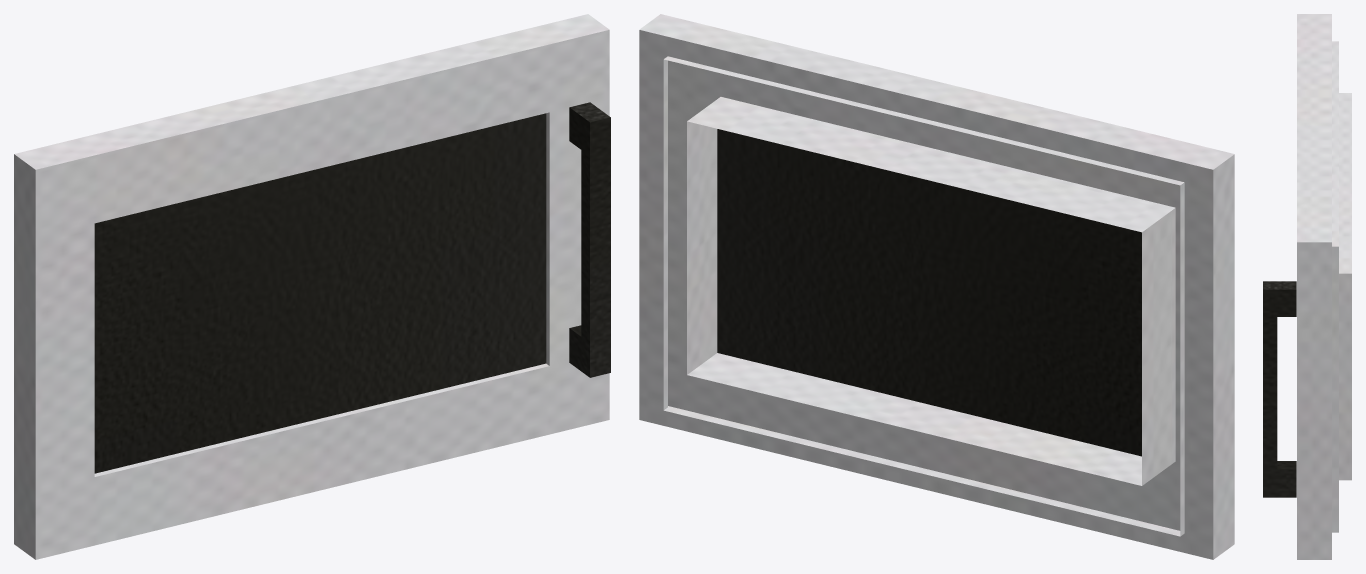
Rendered from PuertaMicro.obj.
3 renders of one model, left to right at view 1: azimuth 30°, elevation 25°; view 2: azimuth 150°, elevation 25°; view 3: azimuth 270°, elevation 25°, orthographic. The views are drawn at different scales.
Parts seen in each view (by area): view 1: polySurface80; view 2: polySurface80; view 3: polySurface80.
Boxes of the visible parts, x1,y1,x2,y2 form: polySurface80: [14, 14, 610, 559]; polySurface80: [639, 14, 1234, 559]; polySurface80: [1263, 14, 1351, 559].
Size of the model in its own units: 0.3713 by 0.2411 by 0.061.
Materials: 2 (2 with a texture image).
